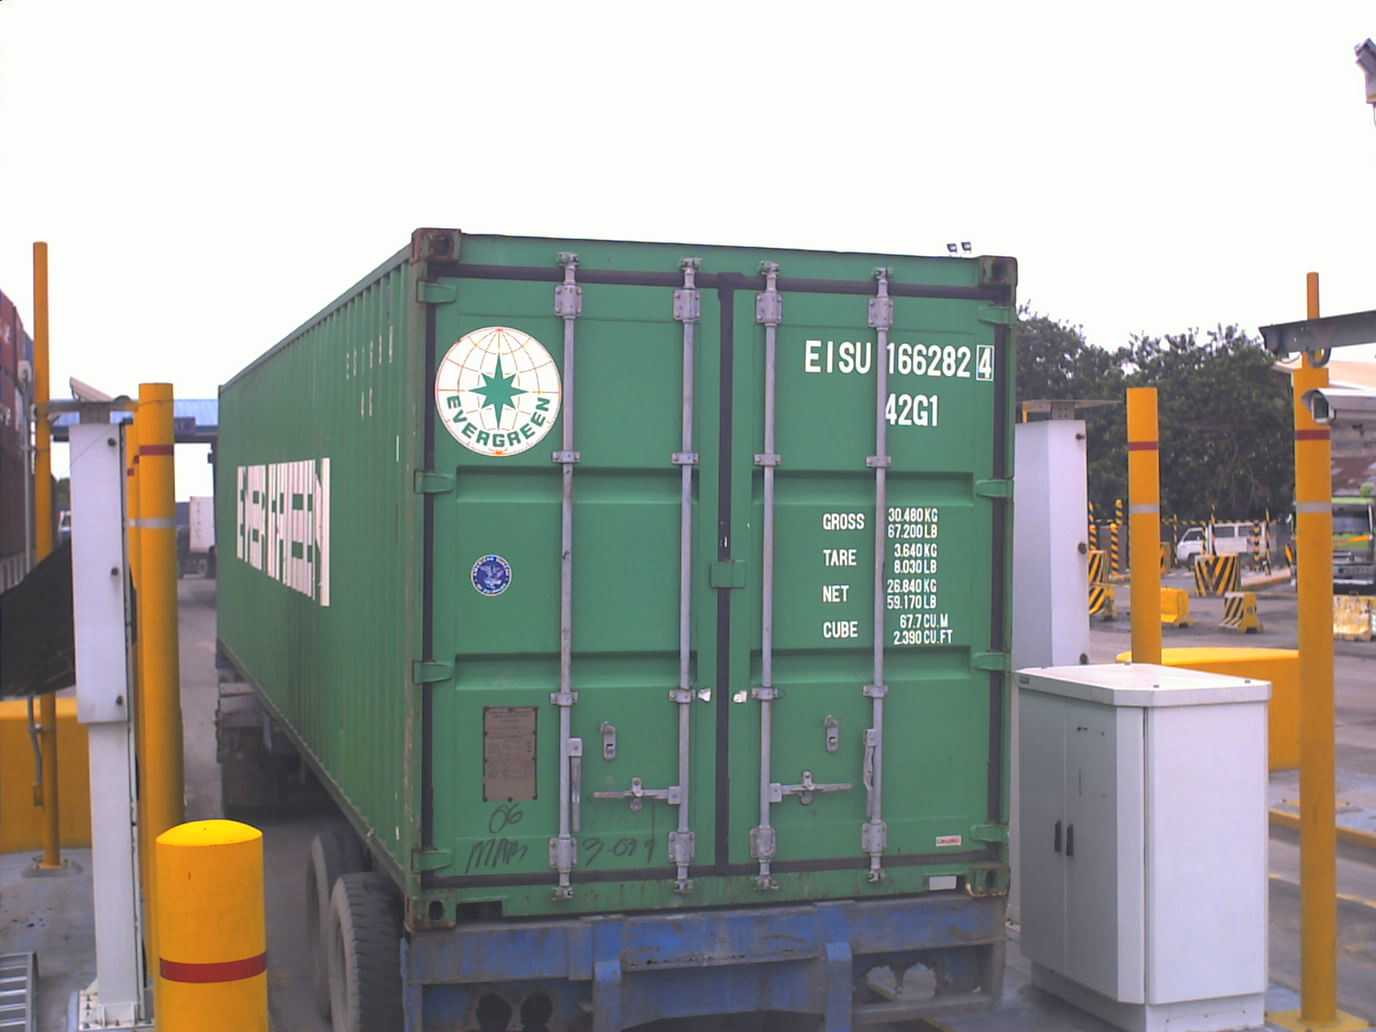container_door: (404, 216, 1022, 932)
